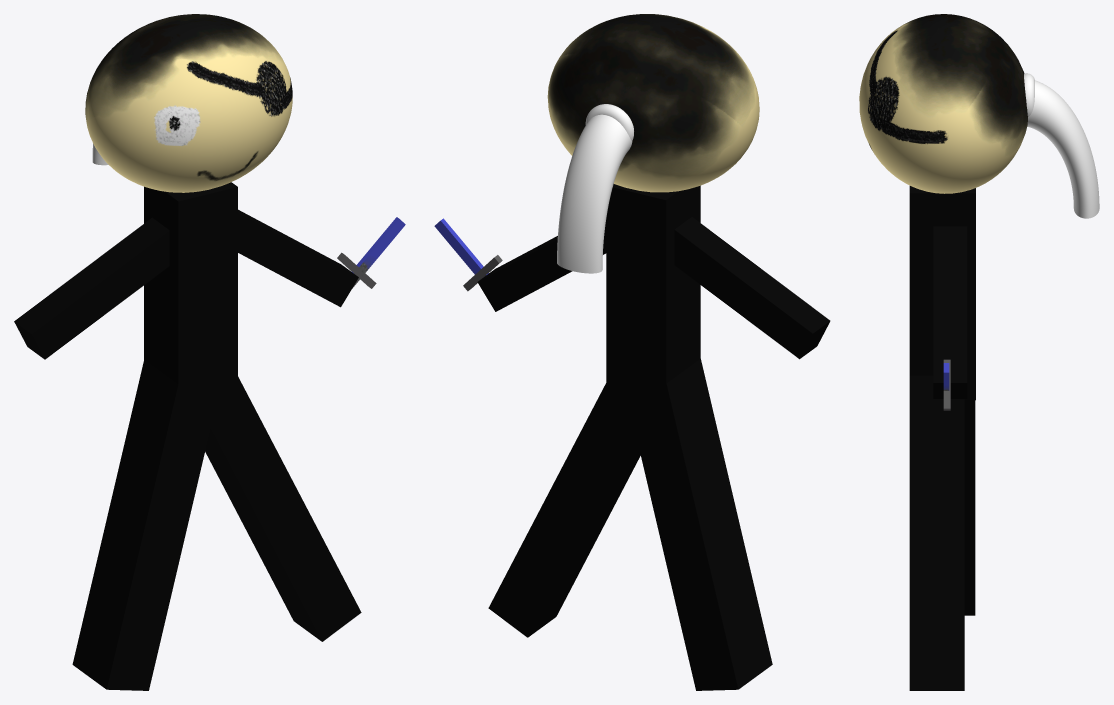
Rendered from majima.fbx.
The picture shows the model from 3 angles, left to right: view 1: azimuth 30°, elevation 25°; view 2: azimuth 150°, elevation 25°; view 3: azimuth 270°, elevation 25°; orthographic projection. The views are drawn at different scales.
Parts seen in each view (by area): view 1: node_id5, node_id11, node_id14, node_id8, node_id17, node_id20, node_id23; view 2: node_id5, node_id11, node_id8, node_id14, node_id17, node_id32, node_id20, node_id23, node_id29; view 3: node_id5, node_id14, node_id8, node_id20, node_id32, node_id11, node_id29.
Boxes of the visible parts, <box> form: node_id5: <box>85,14,292,192</box>; node_id11: <box>72,359,221,690</box>; node_id14: <box>194,367,361,641</box>; node_id8: <box>144,182,237,383</box>; node_id17: <box>14,217,169,359</box>; node_id20: <box>238,209,358,307</box>; node_id23: <box>351,217,405,288</box>; node_id5: <box>547,14,759,192</box>; node_id11: <box>629,358,772,690</box>; node_id8: <box>606,184,700,415</box>; node_id14: <box>488,383,640,637</box>; node_id17: <box>674,217,830,359</box>; node_id32: <box>557,114,632,273</box>; node_id20: <box>477,220,606,311</box>; node_id23: <box>434,218,488,277</box>; node_id29: <box>585,104,633,140</box>; node_id5: <box>859,14,1027,193</box>; node_id14: <box>909,375,964,690</box>; node_id8: <box>909,186,975,400</box>; node_id20: <box>933,226,967,398</box>; node_id32: <box>1027,80,1099,218</box>; node_id11: <box>964,400,975,615</box>; node_id29: <box>1024,73,1034,116</box>.
Size of the model in its own units: 0.3157 by 0.5039 by 0.1779.
Materials: 10 (8 with a texture image).
